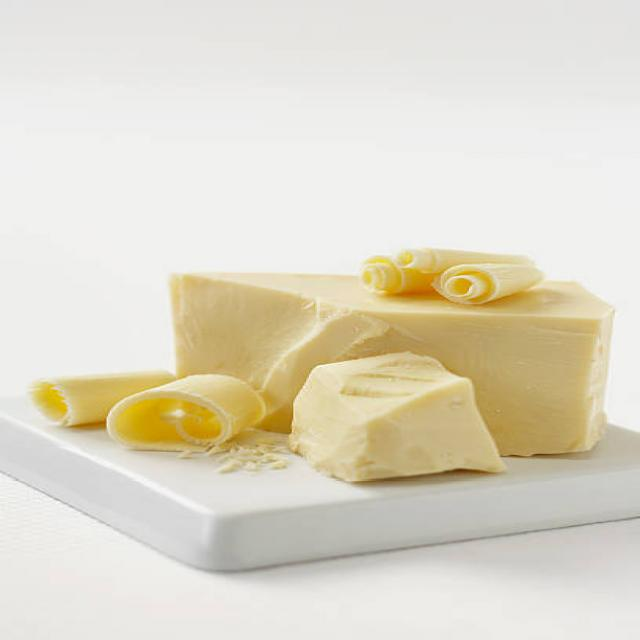chocolate: (168, 251, 614, 462), (274, 350, 522, 493)
